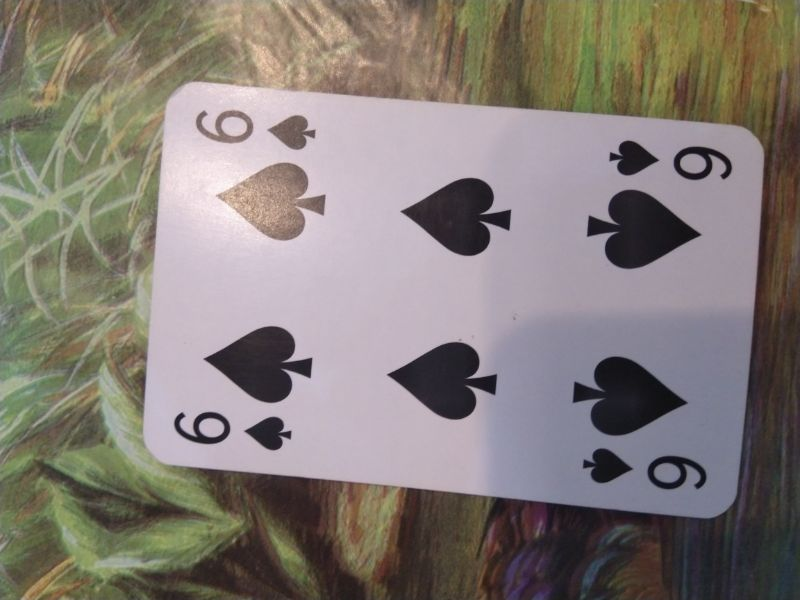6s: (573, 445, 718, 496), (170, 406, 299, 457), (606, 135, 738, 184), (192, 106, 320, 153)
